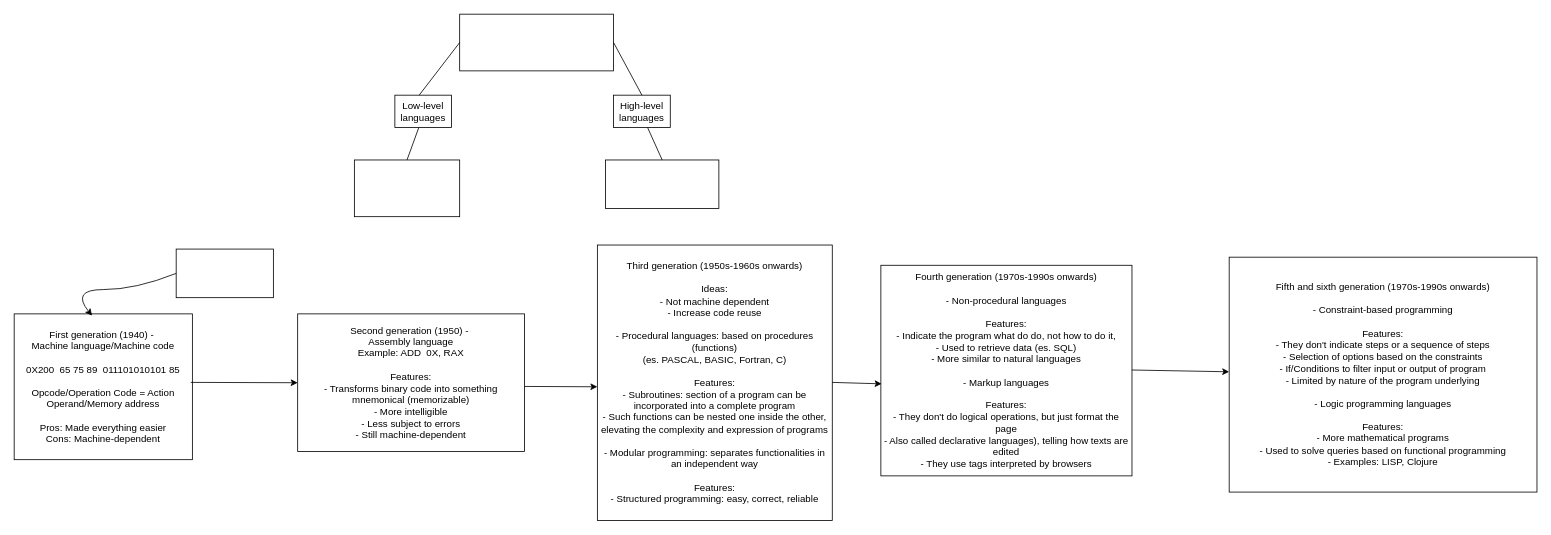
Image size: 1551x535. Some labels were removed from this diagram. The shapes that lost their labels are listed below. From the top down, each one's box as (x1, y1, x2, y2) in pixels, then its label:
(459, 13, 614, 71): First and second generation languages
(354, 159, 460, 217): Natural language Manipulate the hardware Needs to be translated
(605, 159, 719, 209): Needs to be translated Syntax is not closer to natural language Executable
(175, 248, 273, 298): Different generations based on hardware
